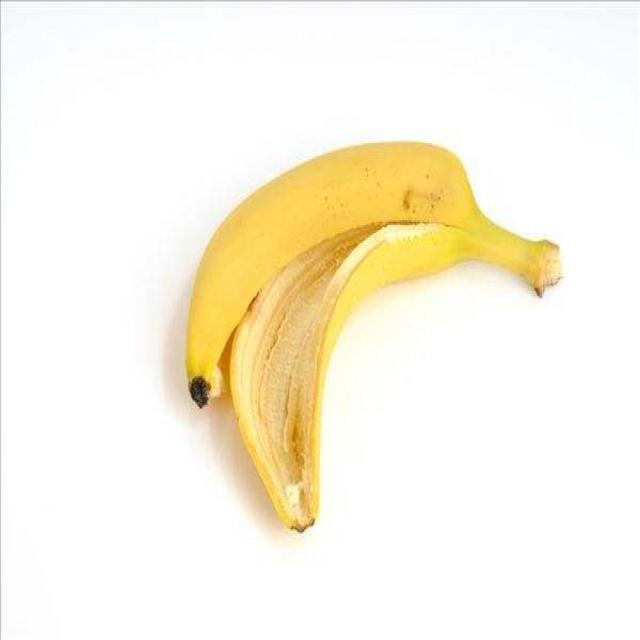banana-peel: (183, 138, 562, 532)
